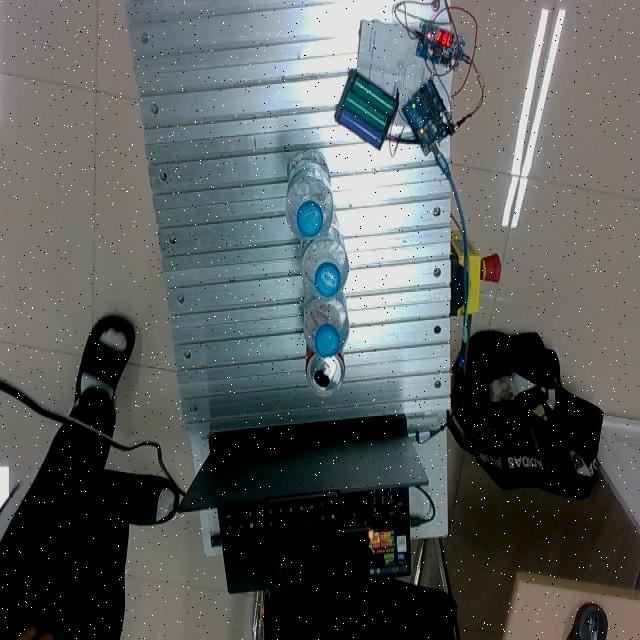coca: (304, 343, 346, 397)
lavie: (285, 152, 336, 245), (300, 222, 349, 298), (302, 287, 350, 357)
